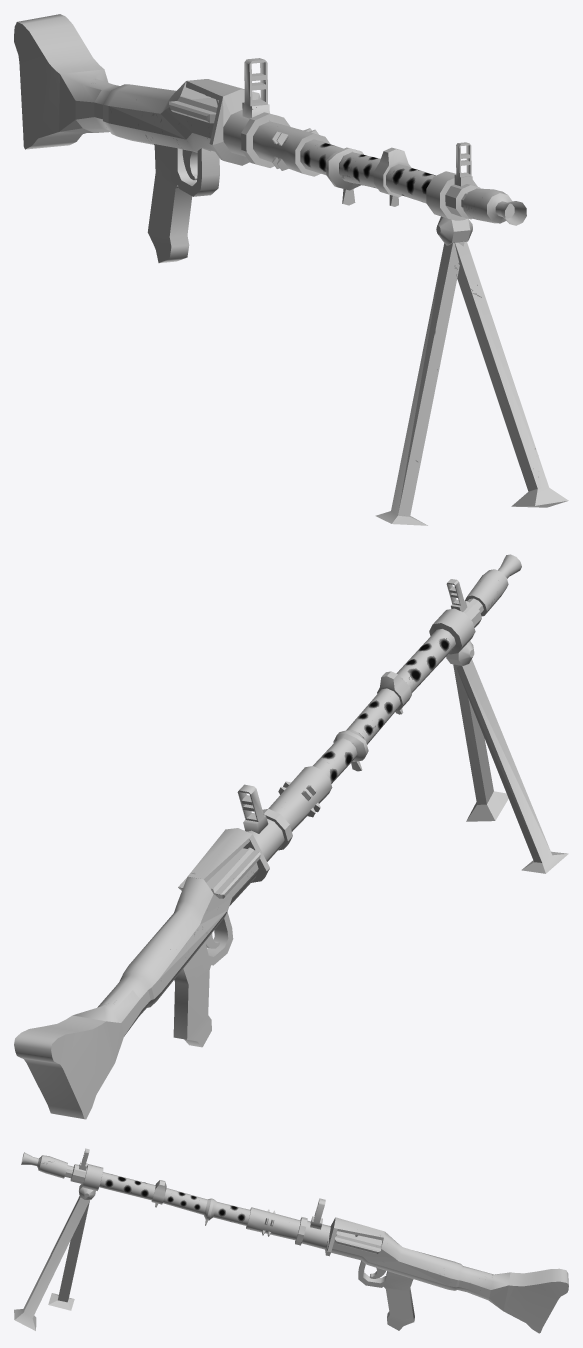
The model's file is bexAsi.glb.
The picture shows the model from 3 angles, top to bottom: view 1: azimuth 30°, elevation 25°; view 2: azimuth 150°, elevation 25°; view 3: azimuth 270°, elevation 25°; orthographic projection. The views are drawn at different scales.
Parts seen in each view (by area): view 1: MG_34_Untitled.008; view 2: MG_34_Untitled.008; view 3: MG_34_Untitled.008.
Boxes of the visible parts, x1,y1,x2,y2 form: MG_34_Untitled.008: (14,14,568,525); MG_34_Untitled.008: (14,554,568,1119); MG_34_Untitled.008: (14,1148,568,1333).
Size of the model in its own units: 2.56 by 5 by 14.1.
1 material, 1 textured.
